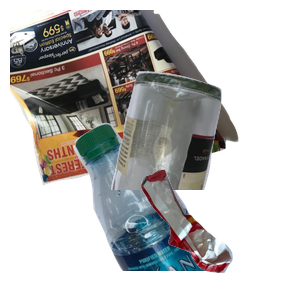glass: (109, 69, 300, 249)
paper: (10, 10, 241, 188)
plastic: (71, 120, 300, 300)
trash: (139, 167, 300, 300)
